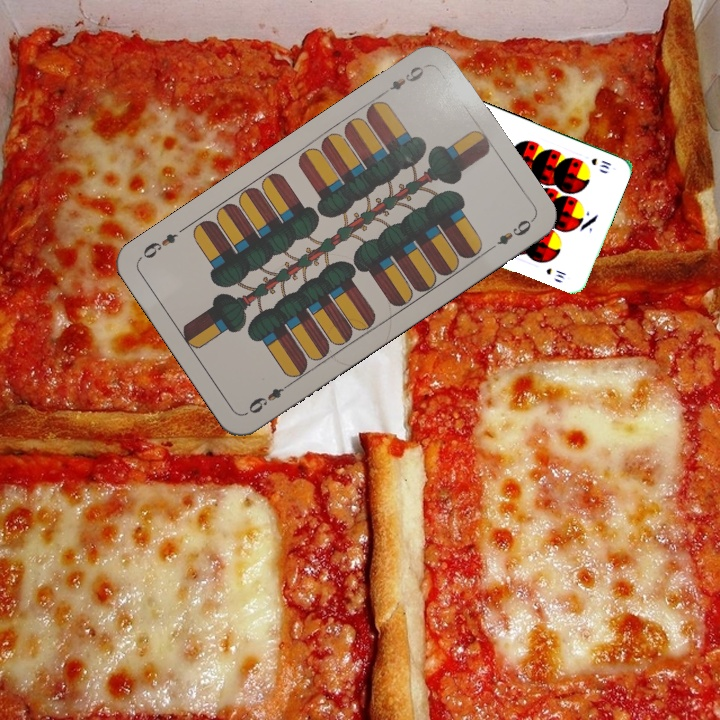E9: (242, 378, 294, 417), (377, 62, 427, 98)
S10: (587, 154, 614, 172)
